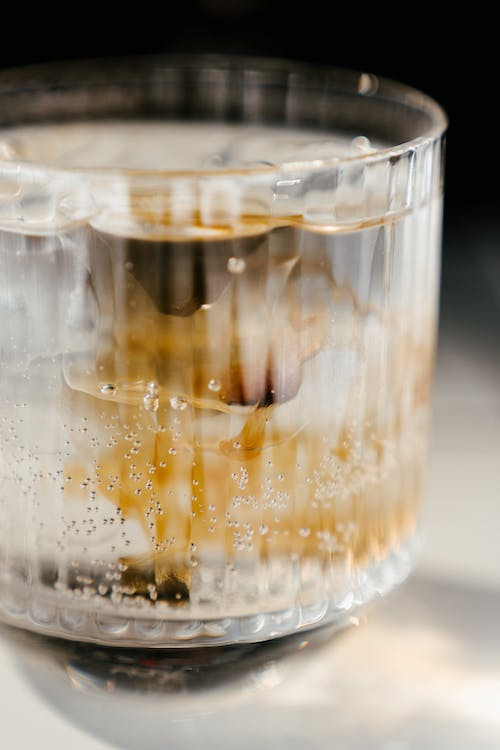alcohol: (0, 55, 449, 650)
